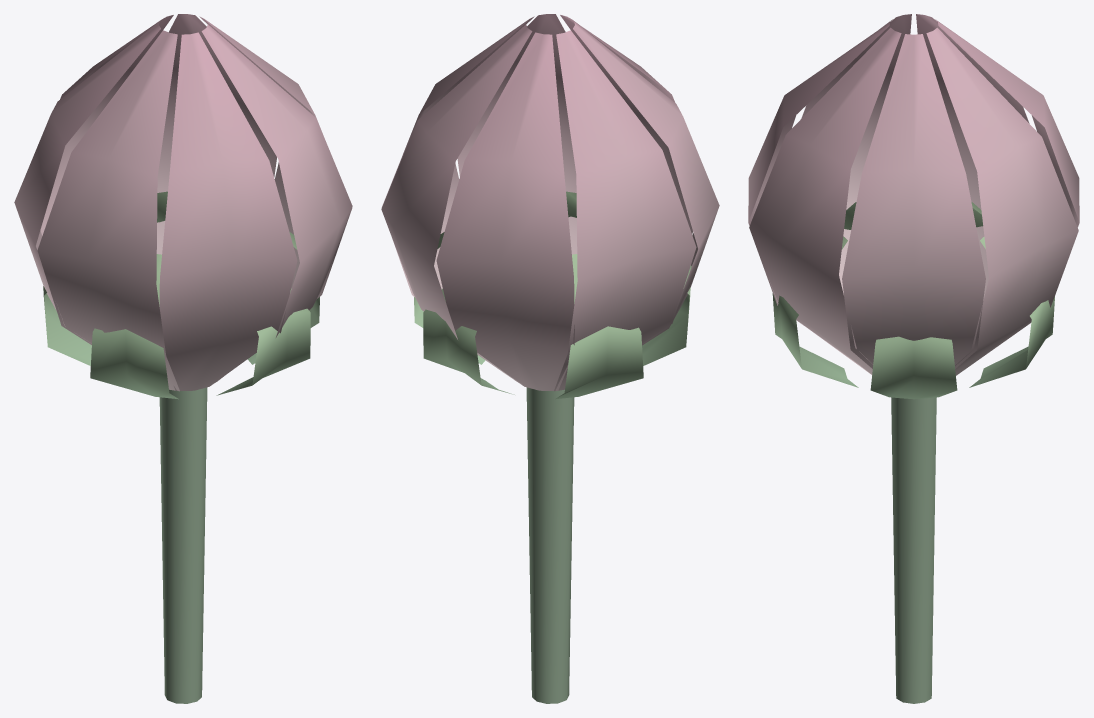
The model's file is lotus_bud_p012b_eco.glb.
The picture shows the model from 3 angles, left to right: view 1: azimuth 30°, elevation 25°; view 2: azimuth 150°, elevation 25°; view 3: azimuth 270°, elevation 25°; orthographic projection.
Visible parts, largest first — view 1: lotus_bud_p012b_root; view 2: lotus_bud_p012b_root; view 3: lotus_bud_p012b_root.
Boxes of the visible parts, box(x1,y1,x2,y2) form: lotus_bud_p012b_root: box(14, 14, 352, 703); lotus_bud_p012b_root: box(381, 14, 719, 703); lotus_bud_p012b_root: box(748, 14, 1079, 703).
Size of the model in its own units: 0.29 by 0.634 by 0.2834.
